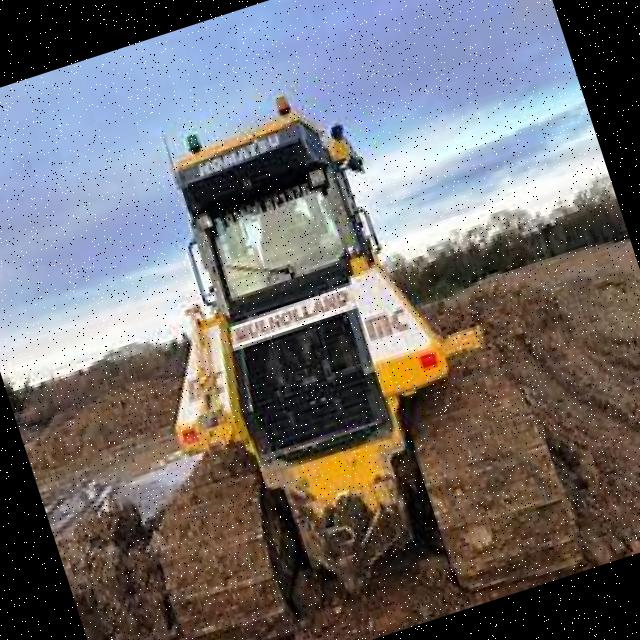Bulldozer: (9, 19, 606, 640)
